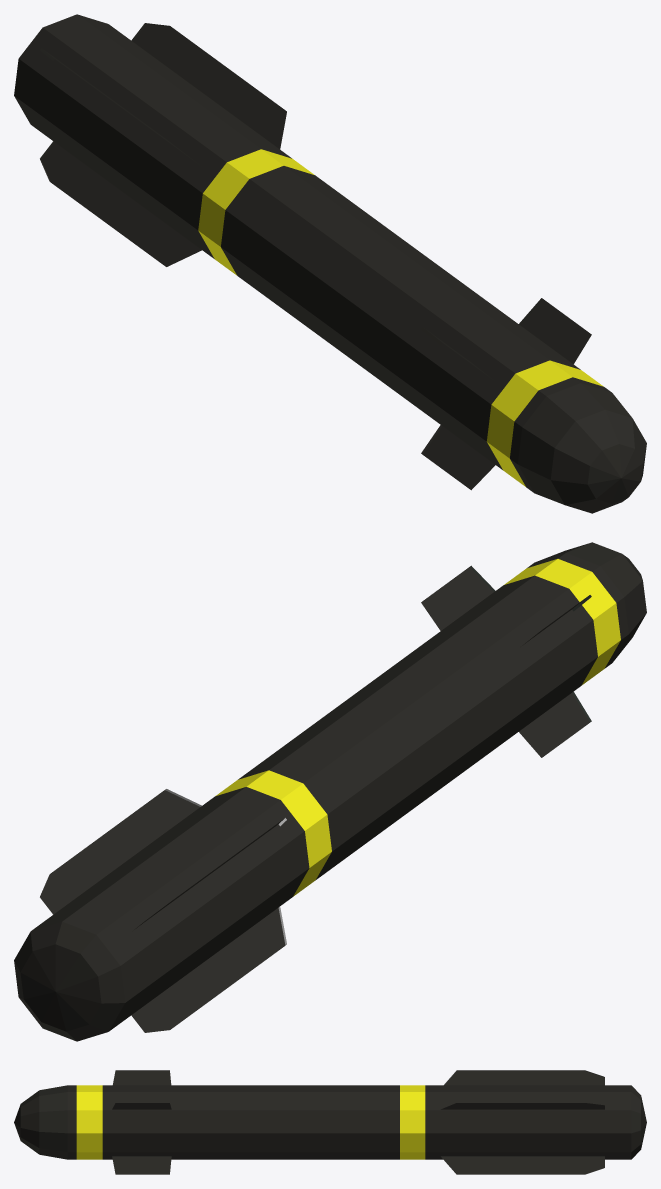
The model's file is AGM-114.glb.
The picture shows the model from 3 angles, top to bottom: view 1: azimuth 30°, elevation 25°; view 2: azimuth 150°, elevation 25°; view 3: azimuth 270°, elevation 25°; orthographic projection. The views are drawn at different scales.
Parts seen in each view (by area): view 1: Sphere; view 2: Sphere; view 3: Sphere.
Boxes of the visible parts, box(x1,y1,x2,y2) form: Sphere: box(14, 14, 646, 513); Sphere: box(14, 542, 646, 1041); Sphere: box(14, 1070, 646, 1174).
Size of the model in its own units: 0.1997 by 0.1997 by 1.6.
1 material, 1 textured.
